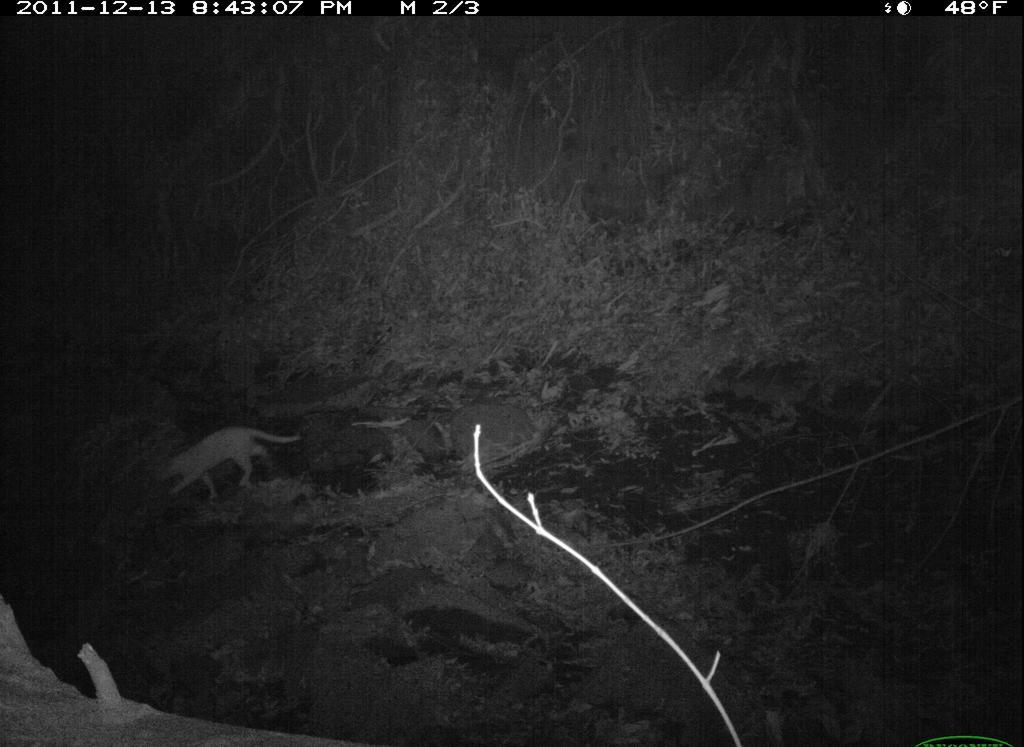cat: (145, 422, 313, 510)
